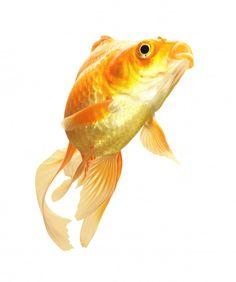goldfish: (30, 25, 213, 225)
